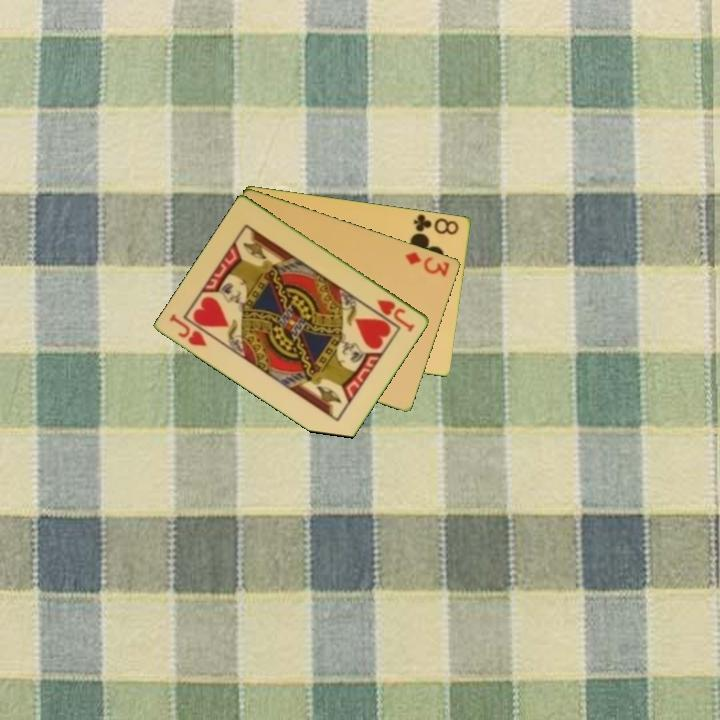3d: (401, 248, 453, 279)
8c: (410, 210, 462, 238)
Jh: (373, 296, 418, 335), (166, 310, 210, 349)
